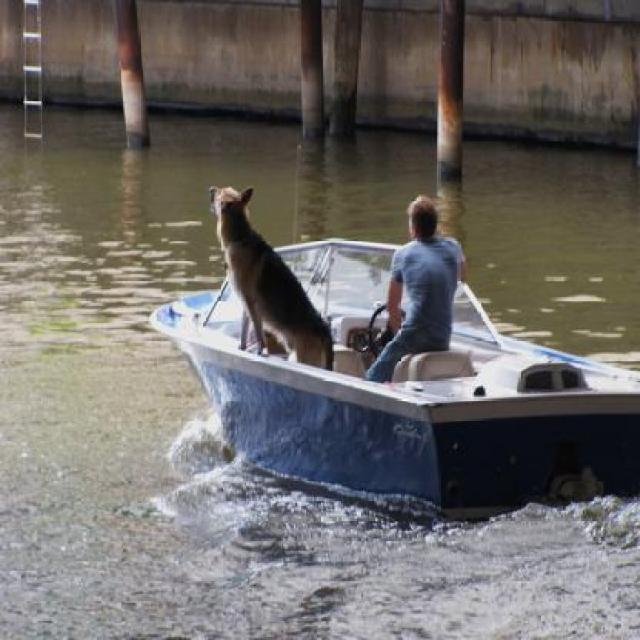ship: (120, 173, 634, 516)
